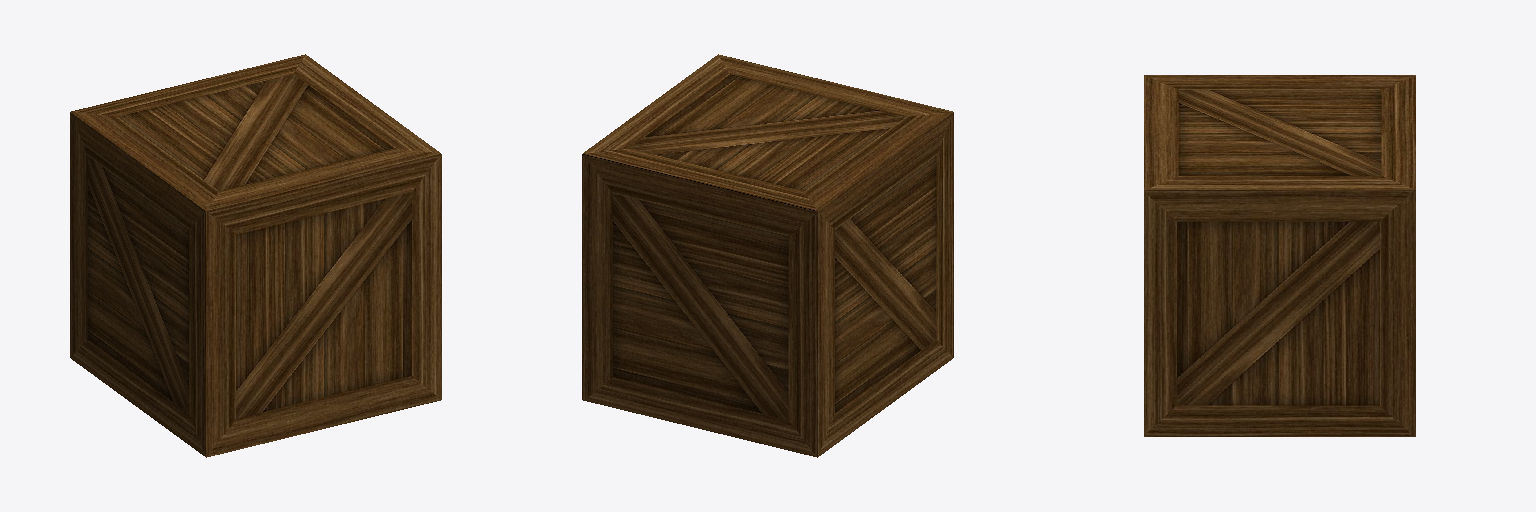
The picture shows the model from 3 angles: view 1: azimuth 30°, elevation 25°; view 2: azimuth 150°, elevation 25°; view 3: azimuth 270°, elevation 25°; orthographic projection.
Parts seen in each view (by area): view 1: Cube; view 2: Cube; view 3: Cube.
Boxes of the visible parts, x1,y1,x2,y2 form: Cube: [70, 54, 441, 457]; Cube: [582, 54, 953, 457]; Cube: [1144, 75, 1415, 436].
Size of the model in its own units: 0.8 by 0.8 by 0.8.
Materials: 1 (1 with a texture image).